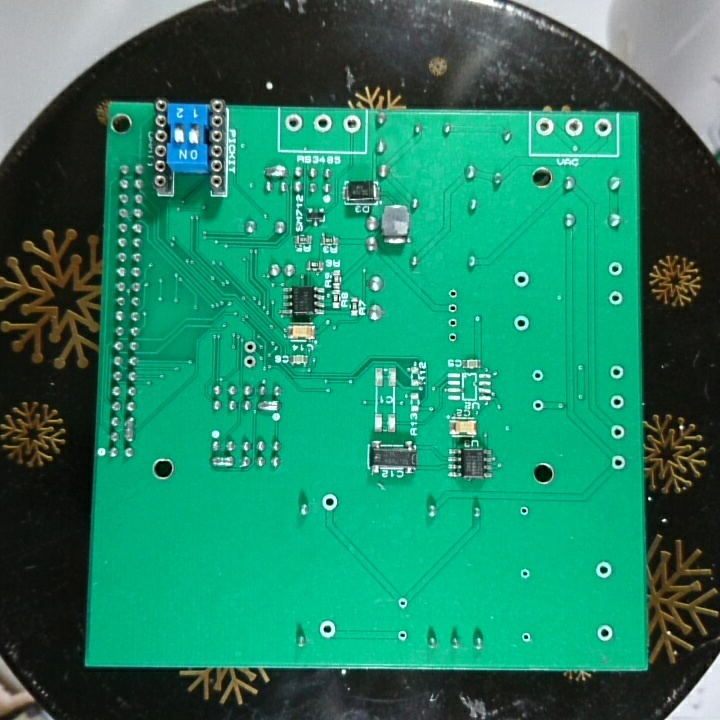F: (282, 112, 306, 136), (534, 115, 557, 140), (594, 620, 617, 644), (316, 617, 339, 641), (319, 489, 340, 515), (311, 112, 334, 135), (592, 116, 614, 139), (592, 559, 615, 581), (563, 117, 585, 139), (511, 311, 533, 333), (341, 113, 362, 134), (607, 391, 628, 412), (511, 268, 531, 290), (607, 360, 627, 382), (605, 258, 625, 279), (394, 594, 414, 615), (606, 286, 625, 307), (608, 421, 627, 442), (608, 452, 627, 472), (393, 625, 411, 646), (528, 366, 547, 384), (517, 628, 534, 648), (241, 337, 259, 355), (516, 503, 534, 520), (443, 315, 462, 331), (530, 397, 546, 415), (242, 352, 258, 370), (518, 563, 532, 583), (445, 331, 462, 346), (445, 300, 461, 315), (446, 286, 460, 300)
P: (208, 452, 237, 471), (121, 415, 137, 445), (256, 397, 282, 415), (260, 164, 290, 179)
